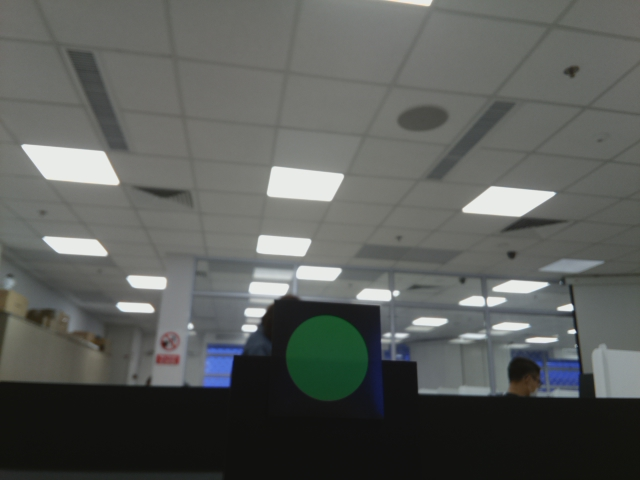go: (280, 307, 379, 403)
